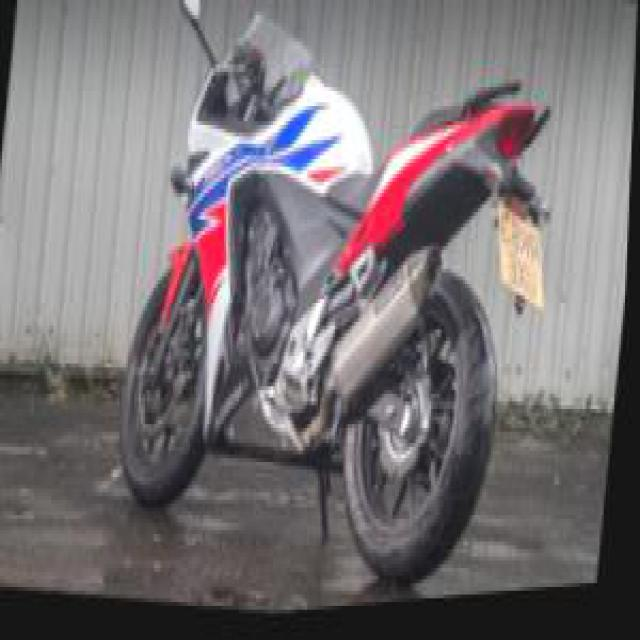CBR500R: (106, 0, 538, 625)
